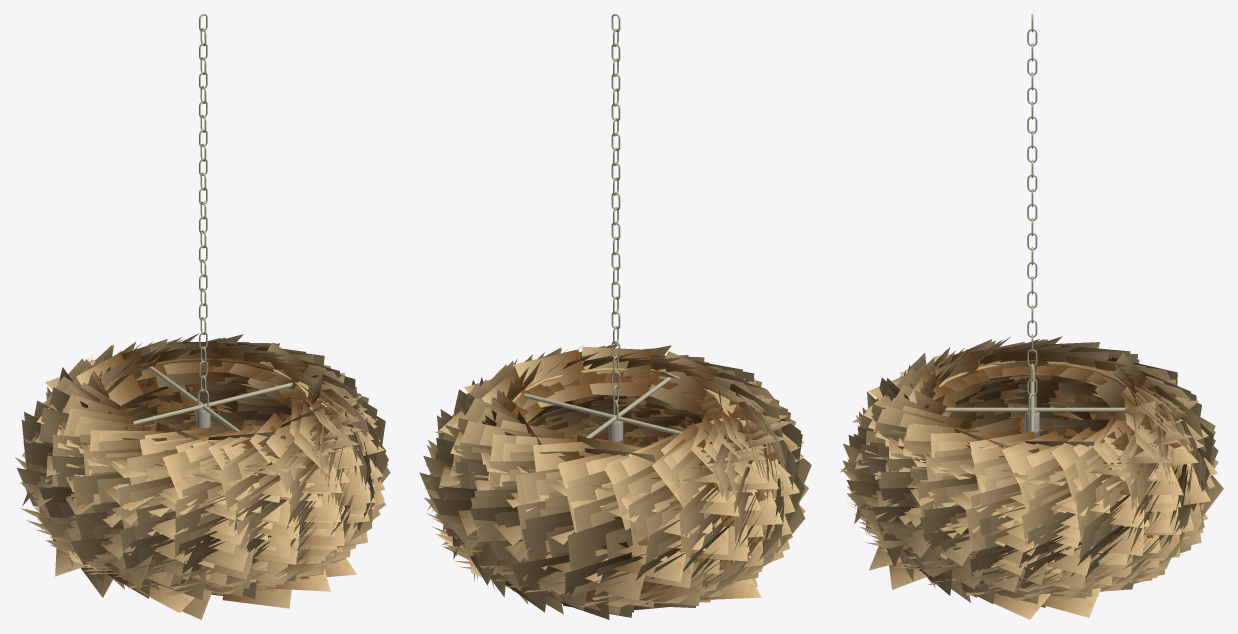
Rendered from chandellor.glb.
3 renders of one model, left to right at view 1: azimuth 30°, elevation 25°; view 2: azimuth 150°, elevation 25°; view 3: azimuth 270°, elevation 25°, orthographic. The views are drawn at different scales.
Parts seen in each view (by area): view 1: mesh1.003; view 2: mesh1.003; view 3: mesh1.003.
Part boxes in pixels (<box>): mesh1.003: <box>15,14,390,619</box>; mesh1.003: <box>419,14,811,619</box>; mesh1.003: <box>840,14,1223,619</box>.
Bounding box in the file's own units: 0.3449 × 0.5382 × 0.3432.
Materials: 2 (2 with a texture image).
